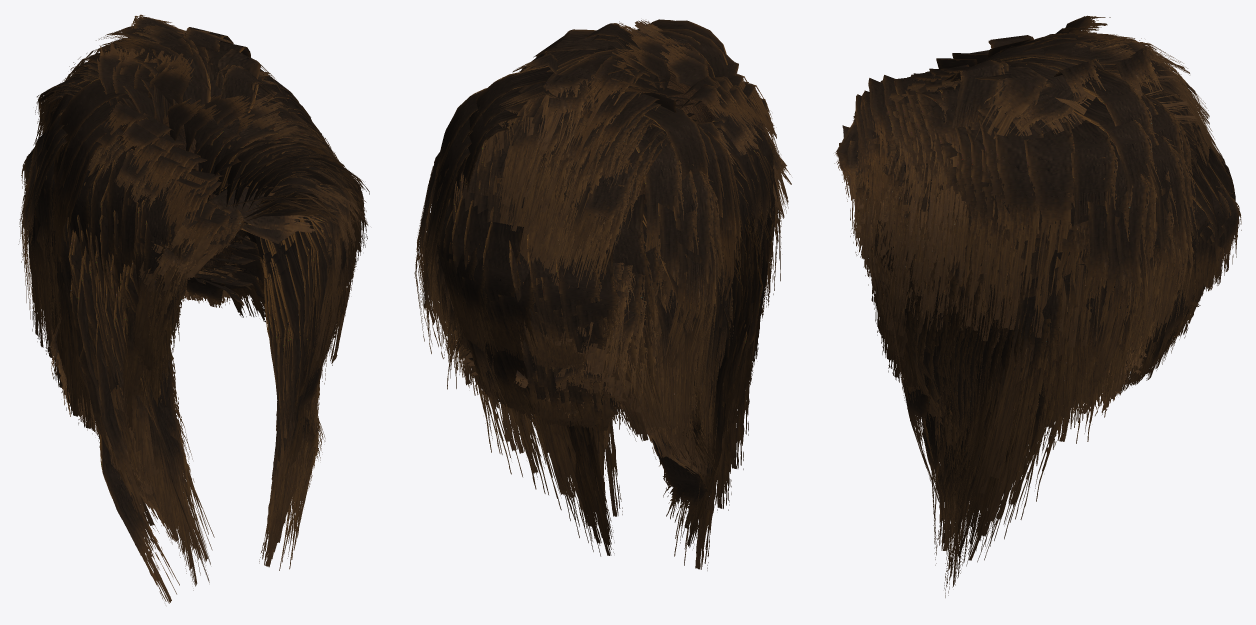
Rendered from mh_o4saken_chinesebob01.glb.
The picture shows the model from 3 angles, left to right: view 1: azimuth 30°, elevation 25°; view 2: azimuth 150°, elevation 25°; view 3: azimuth 270°, elevation 25°; orthographic projection. The views are drawn at different scales.
Visible parts, largest first — view 1: mh_o4saken_chinesebob01; view 2: mh_o4saken_chinesebob01; view 3: mh_o4saken_chinesebob01.
Part boxes in pixels (x1,y1,x2,y2): mh_o4saken_chinesebob01: (18, 14, 369, 603); mh_o4saken_chinesebob01: (414, 19, 791, 570); mh_o4saken_chinesebob01: (834, 15, 1241, 597).
Size of the model in its own units: 0.2269 by 0.4297 by 0.2952.
Materials: 1 (1 with a texture image).
